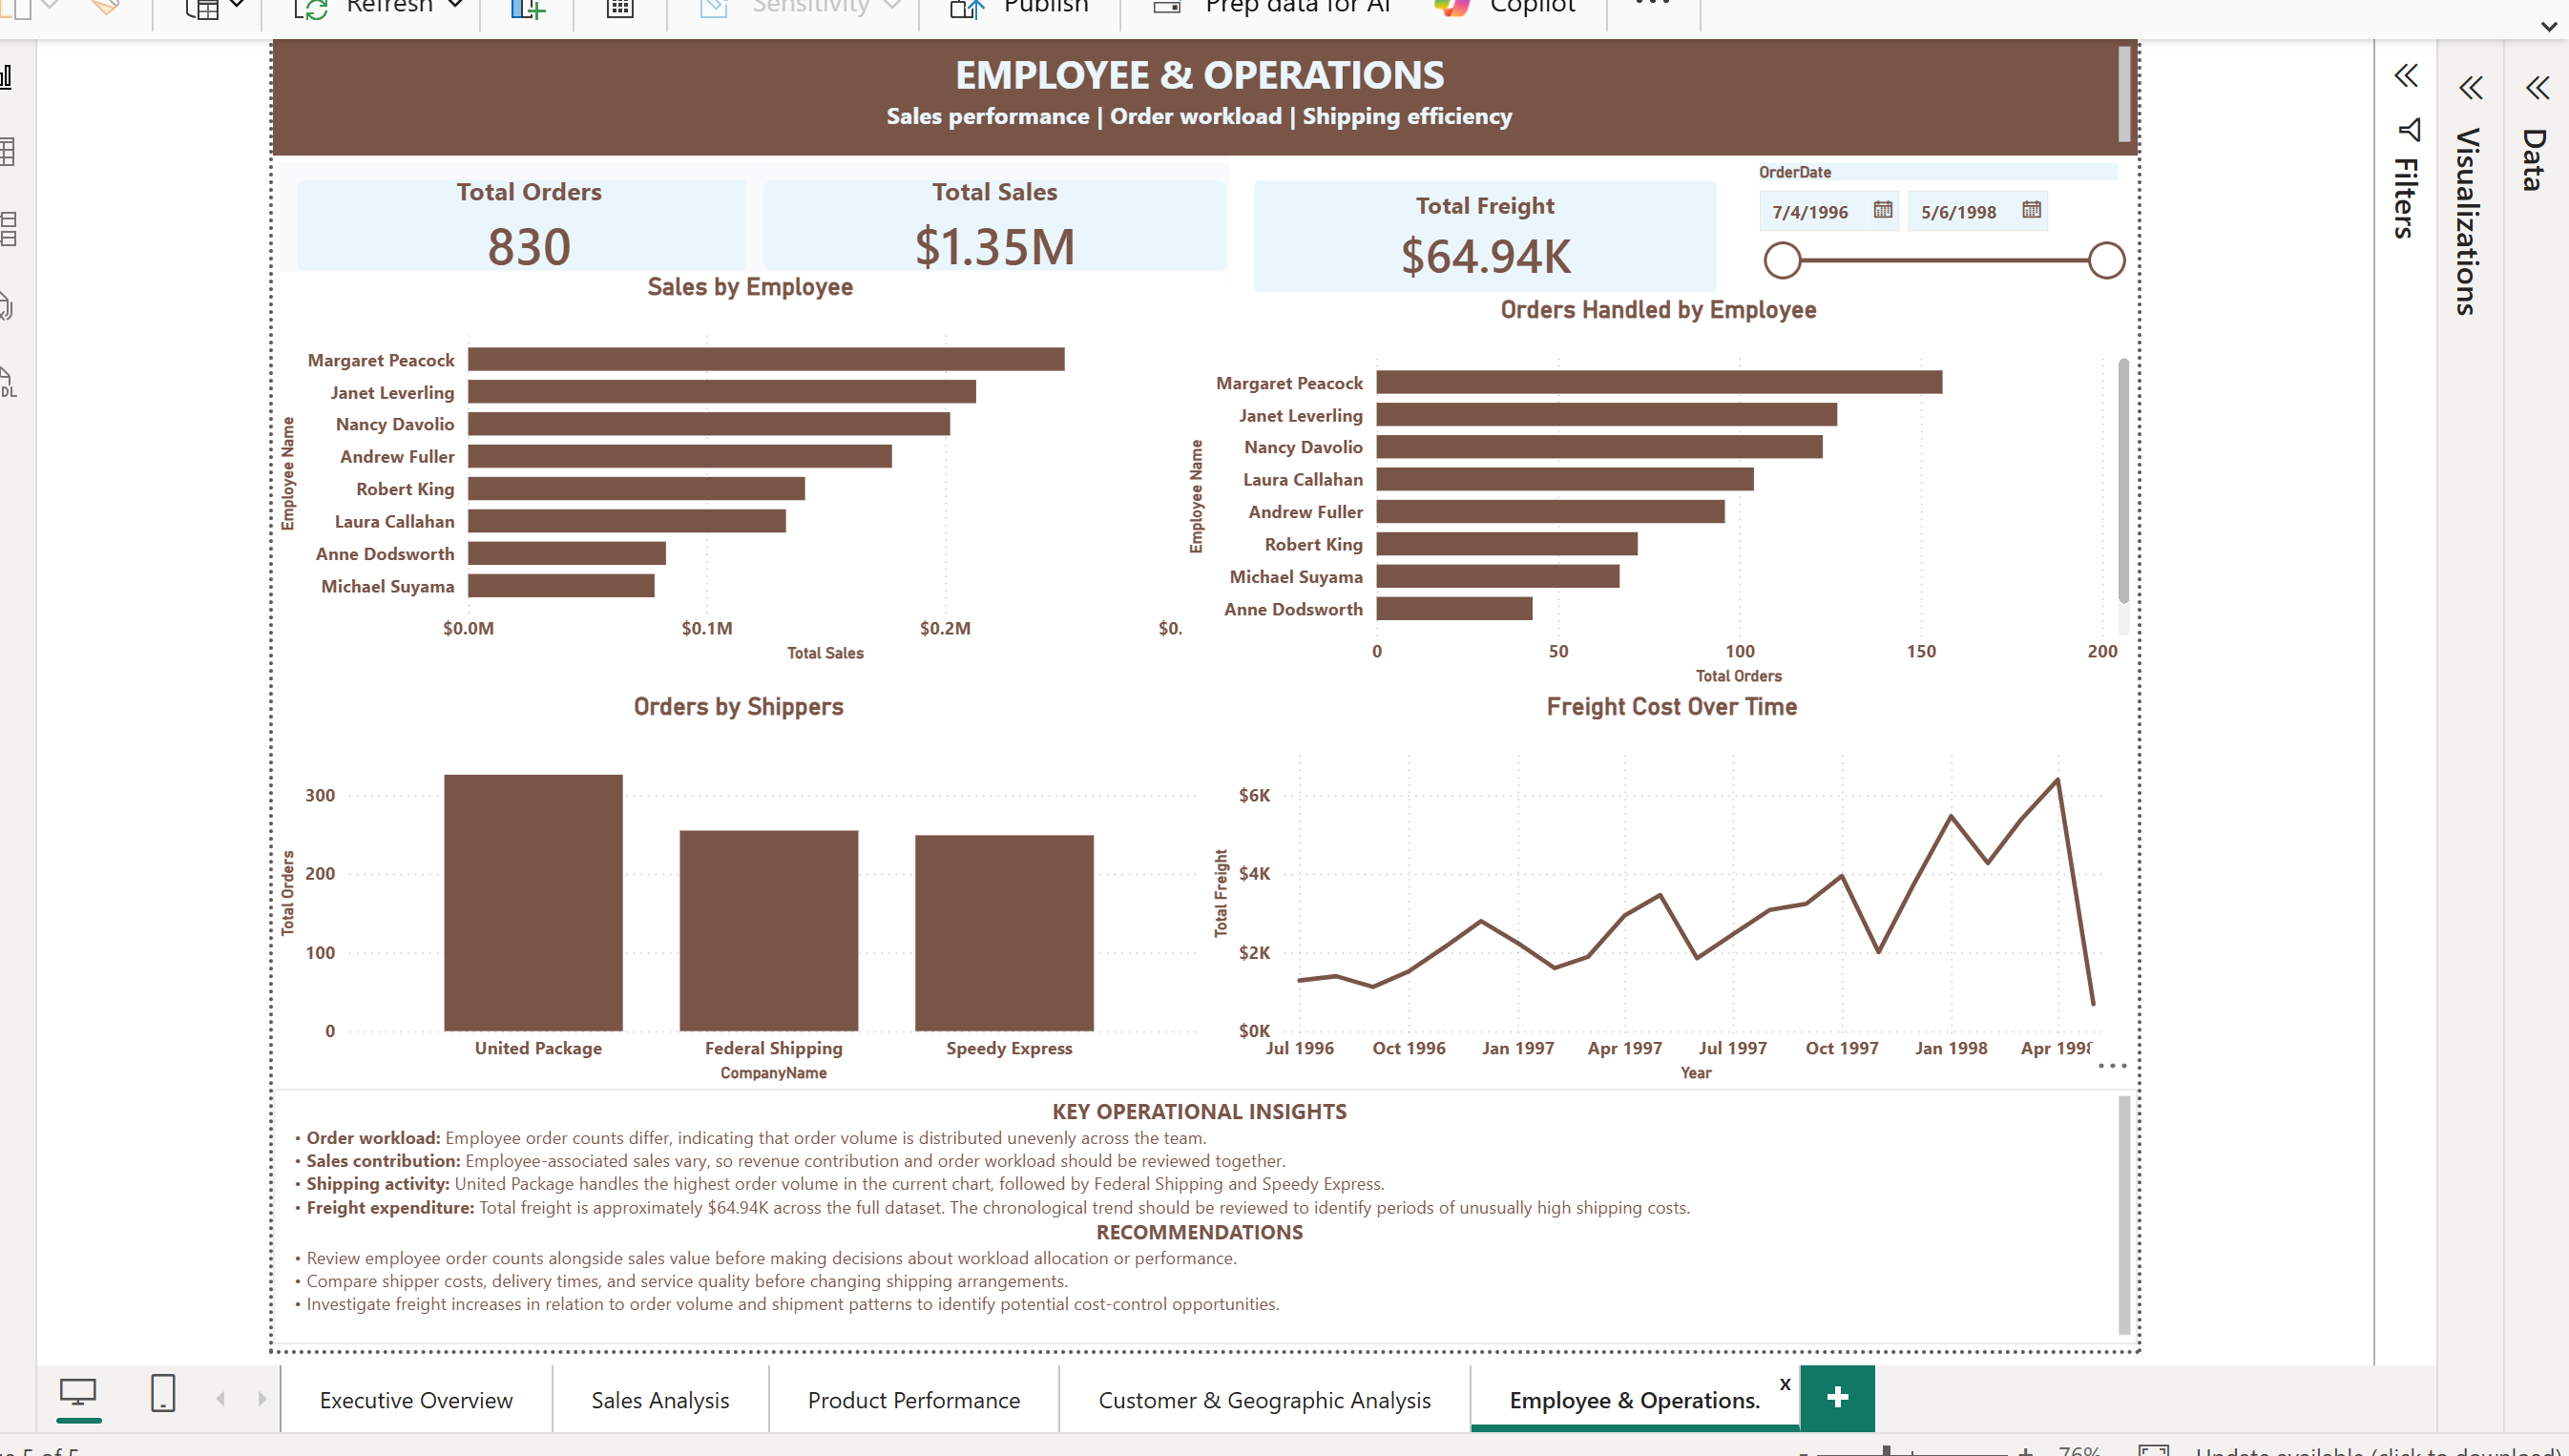

What the dashboard file says about the page in this screenshot:
{"tool":"powerbi","page":{"name":"Employee & Operations.","canvas":[1280,900],"ordinal":4},"visuals":[{"type":"textbox","box":[0,0,1280,80],"z":0},{"type":"cardVisual","fields":{"Data":["Orders.Total Orders"]},"box":[0,80,352,96],"z":1000},{"type":"cardVisual","fields":{"Data":["OrderDetails.Total Sales"]},"box":[320,80,352,96],"z":2000},{"type":"cardVisual","fields":{"Data":["Orders.Total Freight"]},"box":[656,80,352,112],"z":3000},{"type":"slicer","fields":{"Values":["Orders.OrderDate"]},"box":[1008,80,272,96],"z":4000},{"type":"clusteredBarChart","title":"Sales by Employee","fields":{"Category":["Employees.Employee Name"],"Y":["OrderDetails.Total Sales"]},"box":[0,160,656,272],"z":5000},{"type":"clusteredBarChart","title":"Orders Handled by Employee","fields":{"Category":["Employees.Employee Name"],"Y":["Orders.Total Orders"]},"box":[624,176,656,272],"z":6000},{"type":"clusteredColumnChart","title":"Orders by Shippers","fields":{"Category":["Shippers.CompanyName"],"Y":["Orders.Total Orders"]},"box":[0,448,640,272],"z":7000},{"type":"lineChart","title":"Freight Cost Over Time","fields":{"Category":["Orders.OrderDate.Variation.Date Hierarchy.Year","Orders.OrderDate.Variation.Date Hierarchy.Month"],"Y":["Orders.Total Freight"]},"box":[640,448,640,272],"z":8000},{"type":"textbox","box":[0,720,1280,176],"z":9000}]}

Visuals, with their boxes on the page's 1280x900 design canvas (x1, y1, x2, y2). These are canvas units, not pixel positions in the 2569x1456 screenshot, which may show the page scaled, cropped or inside an application window:
textbox: {"left": 0, "top": 0, "right": 1280, "bottom": 80}
cardVisual - Orders.Total Orders: {"left": 0, "top": 80, "right": 352, "bottom": 176}
cardVisual - OrderDetails.Total Sales: {"left": 320, "top": 80, "right": 672, "bottom": 176}
cardVisual - Orders.Total Freight: {"left": 656, "top": 80, "right": 1008, "bottom": 192}
slicer - Orders.OrderDate: {"left": 1008, "top": 80, "right": 1280, "bottom": 176}
"Sales by Employee" clusteredBarChart: {"left": 0, "top": 160, "right": 656, "bottom": 432}
"Orders Handled by Employee" clusteredBarChart: {"left": 624, "top": 176, "right": 1280, "bottom": 448}
"Orders by Shippers" clusteredColumnChart: {"left": 0, "top": 448, "right": 640, "bottom": 720}
"Freight Cost Over Time" lineChart: {"left": 640, "top": 448, "right": 1280, "bottom": 720}
textbox: {"left": 0, "top": 720, "right": 1280, "bottom": 896}
